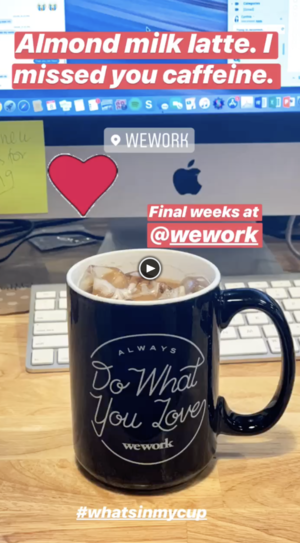wework: (120, 436, 176, 452)
